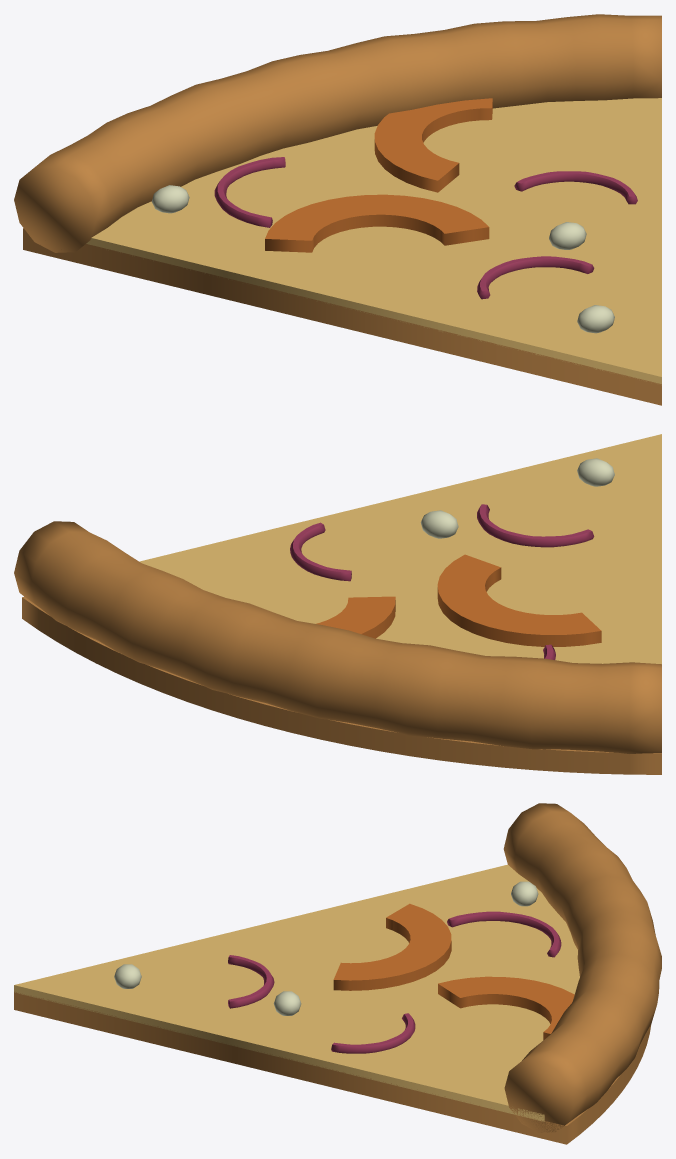
3 renders of one model, top to bottom at view 1: azimuth 30°, elevation 25°; view 2: azimuth 150°, elevation 25°; view 3: azimuth 270°, elevation 25°, orthographic. The views are drawn at different scales.
Parts seen in each view (by area): view 1: Melted cheese wedge, Raised outer baked crust, Thin triangular pizza dough, Roasted squash arc 0, Roasted squash arc 1, Curved red onion 1, Curved red onion 0, Curved red onion 2, Irregular blue cheese chunk 2, Irregular blue cheese chunk 1, Irregular blue cheese chunk 0; view 2: Raised outer baked crust, Melted cheese wedge, Thin triangular pizza dough, Roasted squash arc 0, Roasted squash arc 1, Curved red onion 0, Curved red onion 2, Irregular blue cheese chunk 0, Irregular blue cheese chunk 2; view 3: Melted cheese wedge, Raised outer baked crust, Thin triangular pizza dough, Roasted squash arc 0, Roasted squash arc 1, Curved red onion 1, Curved red onion 2, Curved red onion 0, Irregular blue cheese chunk 1, Irregular blue cheese chunk 2, Irregular blue cheese chunk 0.
Part boxes in pixels (left/top/right/bottom): Melted cheese wedge: left=86, top=98, right=661, bottom=385; Raised outer baked crust: left=14, top=14, right=661, bottom=252; Thin triangular pizza dough: left=23, top=228, right=661, bottom=405; Roasted squash arc 0: left=265, top=194, right=489, bottom=252; Roasted squash arc 1: left=374, top=98, right=492, bottom=192; Curved red onion 1: left=214, top=157, right=285, bottom=227; Curved red onion 0: left=477, top=256, right=594, bottom=299; Curved red onion 2: left=514, top=171, right=637, bottom=204; Irregular blue cheese chunk 2: left=577, top=305, right=614, bottom=333; Irregular blue cheese chunk 1: left=151, top=185, right=189, bottom=213; Irregular blue cheese chunk 0: left=549, top=222, right=586, bottom=249; Raised outer baked crust: left=14, top=521, right=661, bottom=753; Melted cheese wedge: left=139, top=434, right=661, bottom=664; Thin triangular pizza dough: left=22, top=596, right=661, bottom=774; Roasted squash arc 0: left=437, top=554, right=601, bottom=646; Roasted squash arc 1: left=316, top=596, right=395, bottom=638; Curved red onion 0: left=477, top=504, right=594, bottom=547; Curved red onion 2: left=290, top=522, right=351, bottom=581; Irregular blue cheese chunk 0: left=420, top=510, right=458, bottom=538; Irregular blue cheese chunk 2: left=577, top=458, right=614, bottom=486; Melted cheese wedge: left=14, top=864, right=579, bottom=1121; Raised outer baked crust: left=503, top=803, right=661, bottom=1132; Thin triangular pizza dough: left=14, top=991, right=651, bottom=1144; Roasted squash arc 0: left=333, top=903, right=451, bottom=990; Roasted squash arc 1: left=438, top=976, right=574, bottom=1039; Curved red onion 1: left=447, top=911, right=561, bottom=957; Curved red onion 2: left=331, top=1013, right=415, bottom=1053; Curved red onion 0: left=228, top=955, right=274, bottom=1008; Irregular blue cheese chunk 1: left=511, top=881, right=538, bottom=906; Irregular blue cheese chunk 2: left=114, top=964, right=141, bottom=988; Irregular blue cheese chunk 0: left=273, top=991, right=301, bottom=1015.
Bounding box in the file's own units: 0.1419 × 0.0193 × 0.1421.
